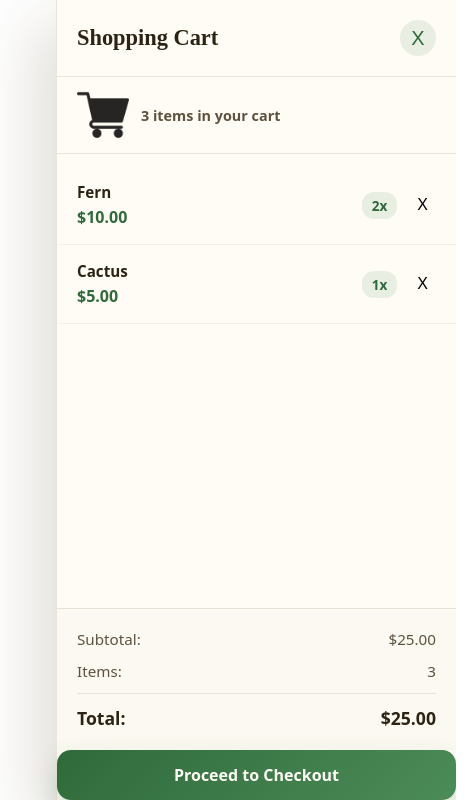
Scenario: Cart › renders cart items and allows removing
Expected: the heading "Fern" is shown, [77, 182, 111, 202]
Expected: the heading "Cactus" is shown, [77, 261, 128, 281]
Click the button named "Remove item". click: (423, 205)
box: [409, 192, 436, 218]
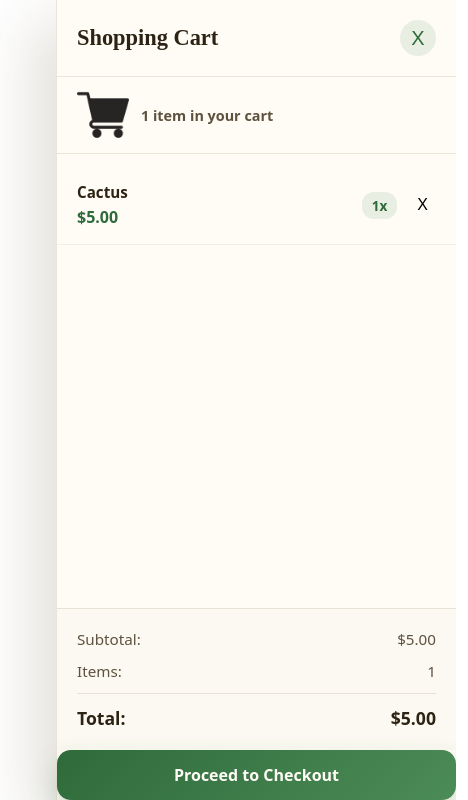
Expected: the heading "Cactus" is shown, [77, 182, 128, 202]
Now the heading "Fern" is gone
